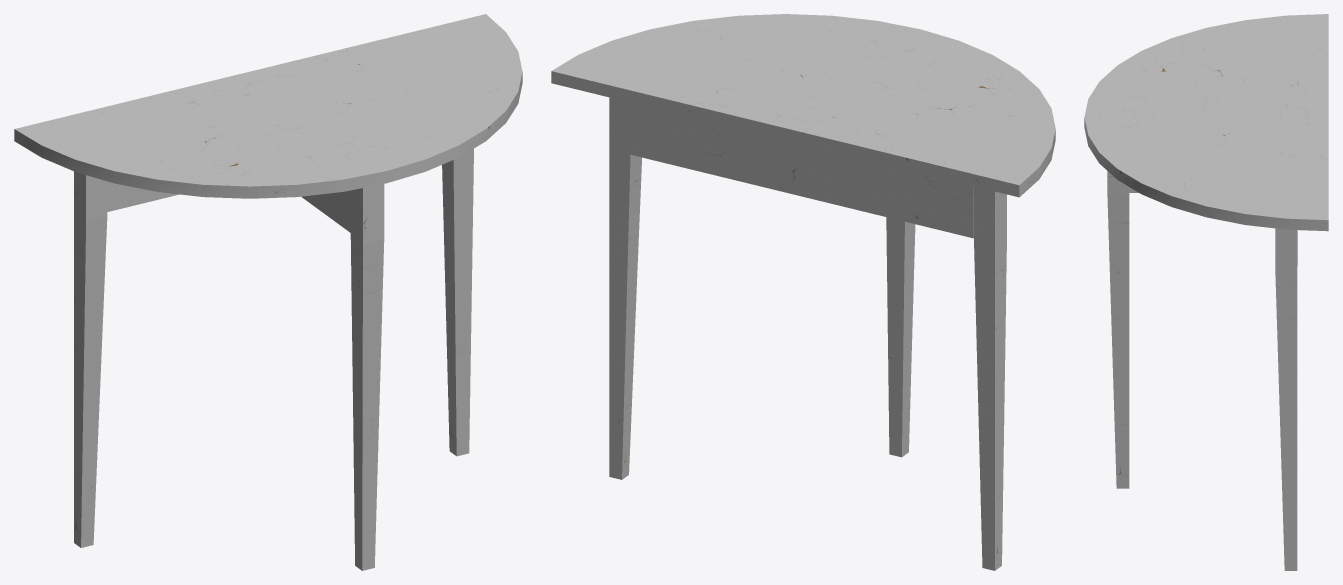
3 renders of one model, left to right at view 1: azimuth 30°, elevation 25°; view 2: azimuth 150°, elevation 25°; view 3: azimuth 270°, elevation 25°, orthographic. The views are drawn at different scales.
Parts seen in each view (by area): view 1: Object_2; view 2: Object_2; view 3: Object_2.
Boxes of the visible parts, x1,y1,x2,y2 form: Object_2: (14, 14, 522, 570); Object_2: (551, 14, 1055, 570); Object_2: (1084, 14, 1328, 570).
Bounding box in the file's own units: 89 × 74.2 × 44.5.
1 material, 1 textured.
